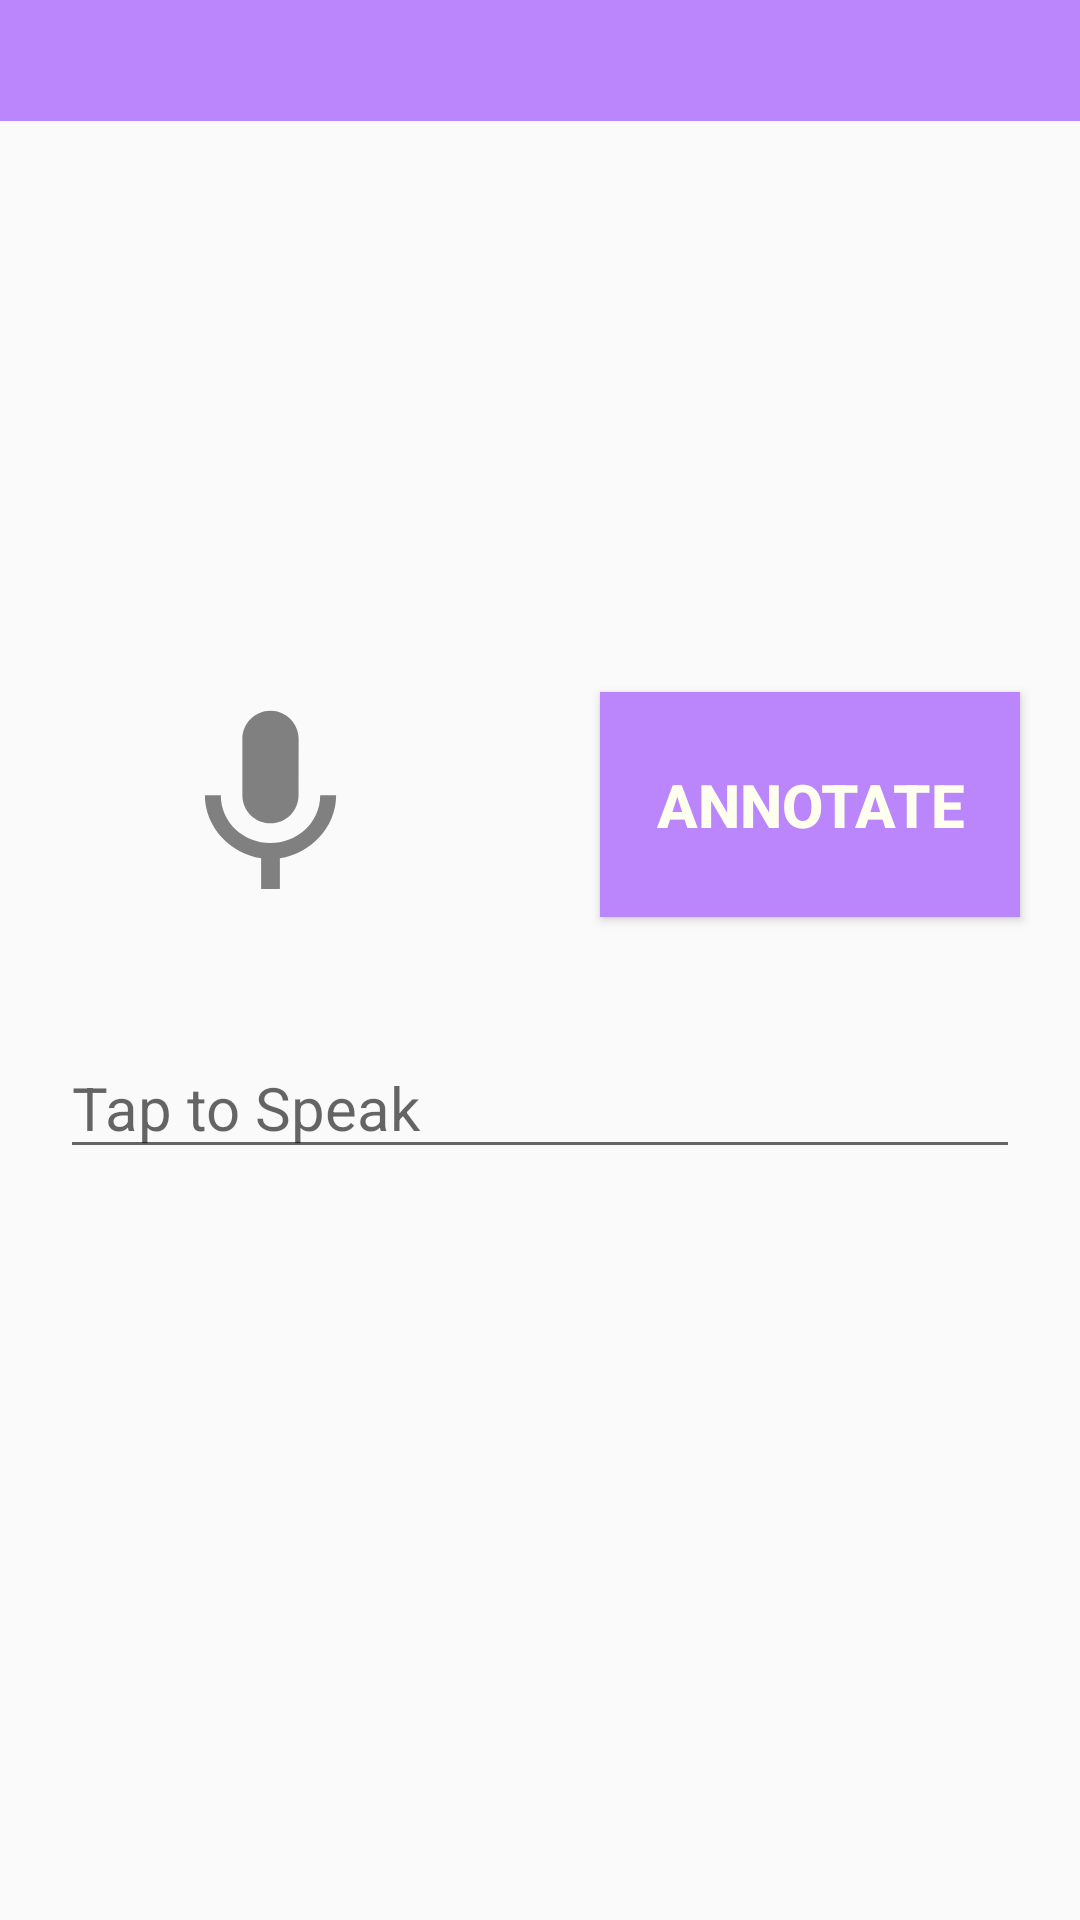

Icons on this 1080px x 1920px Android screen, each with the point to tap as (x=x, y=y):
mic: (x=270, y=799)
